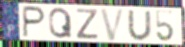5: (155, 9, 177, 43)
P: (22, 5, 47, 39)
Q: (48, 7, 74, 40)
U: (126, 10, 153, 42)
V: (99, 8, 127, 42)
Z: (75, 8, 99, 40)
